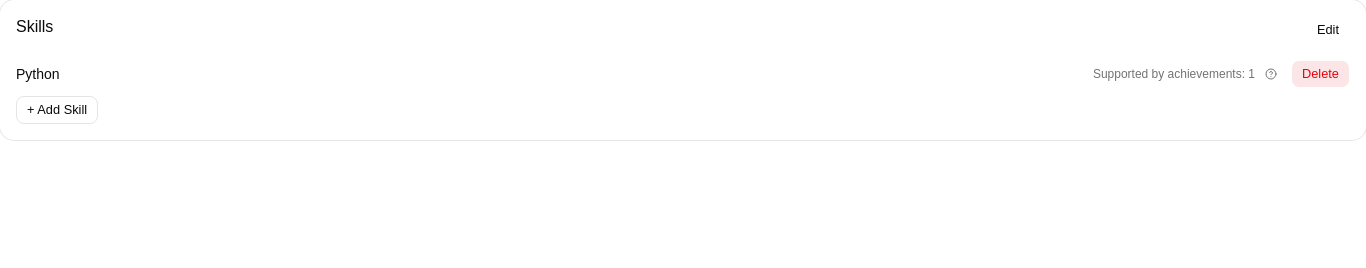
EntitySection › shows nothing extra in bulk-edit mode for a skill row with linked evidence
Click the button "Edit".
click(1328, 30)  # box [1306,16,1350,44]
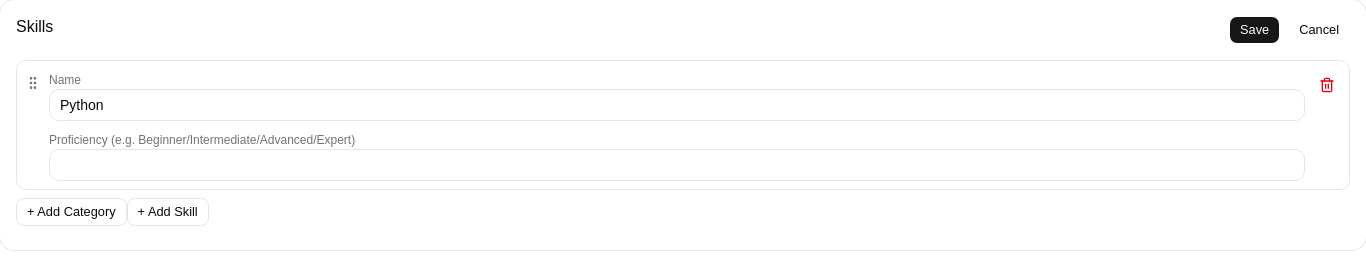
Check: the text "Supported by achievements" is gone
